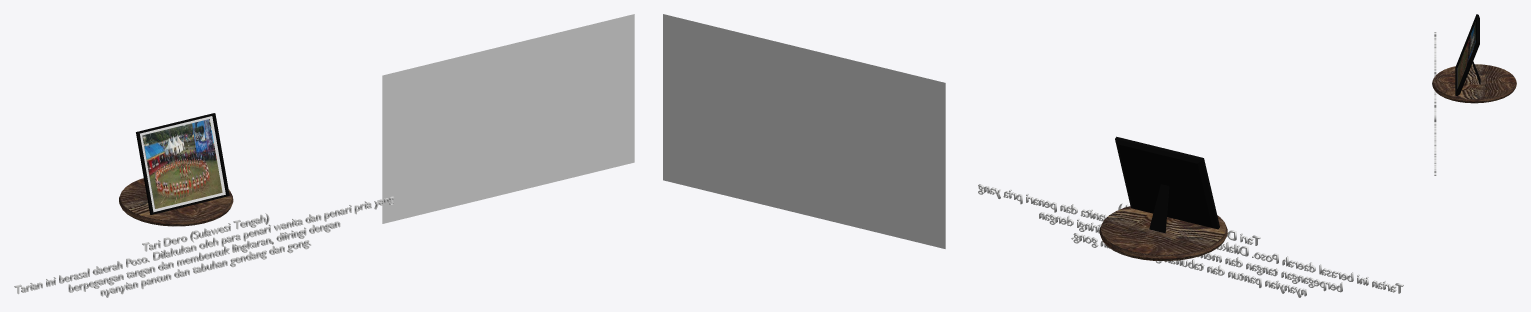
File: 27, Tari Dero (Sulawesi Tengah).fbx
3 renders of one model, left to right at view 1: azimuth 30°, elevation 25°; view 2: azimuth 150°, elevation 25°; view 3: azimuth 270°, elevation 25°, orthographic. The views are drawn at different scales.
Visible parts, largest first — view 1: Plane, Cube.014, Text; view 2: Plane, Cube.014, Text; view 3: Cube.014, Text.
Part boxes in pixels (x1,y1,x2,y2): Plane: [382, 14, 634, 223]; Cube.014: [119, 113, 233, 226]; Text: [14, 196, 394, 297]; Plane: [663, 14, 945, 248]; Cube.014: [1099, 136, 1227, 261]; Text: [978, 184, 1403, 297]; Cube.014: [1432, 14, 1516, 103]; Text: [1434, 32, 1436, 175].
Size of the model in its own units: 8116 by 1800 by 1260.
Materials: 6 (3 with a texture image).
